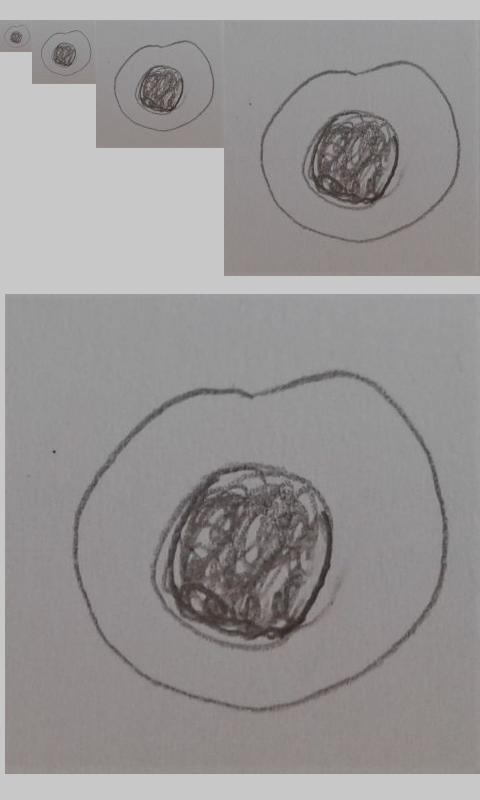radio_button: (70, 366, 451, 713), (259, 59, 462, 245), (112, 39, 215, 133), (40, 29, 92, 77), (3, 24, 31, 49)
